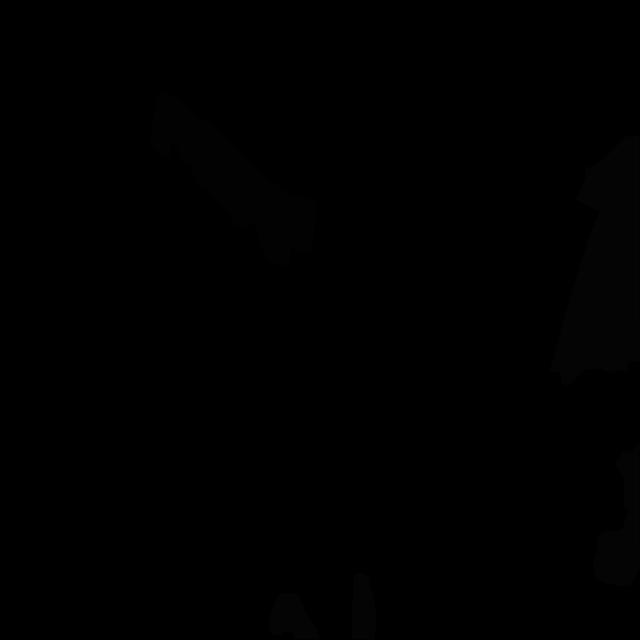cardboard: (150, 92, 317, 267)
soft_plastic: (550, 135, 640, 386), (593, 443, 640, 586), (270, 592, 322, 639), (352, 572, 376, 640)
